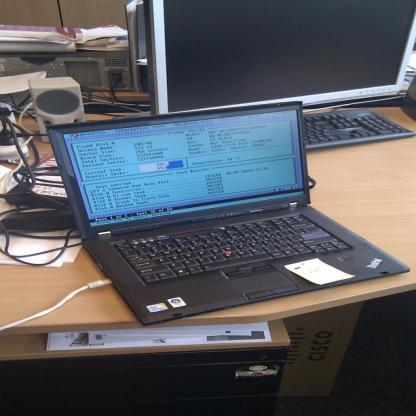board: (48, 101, 408, 325)
